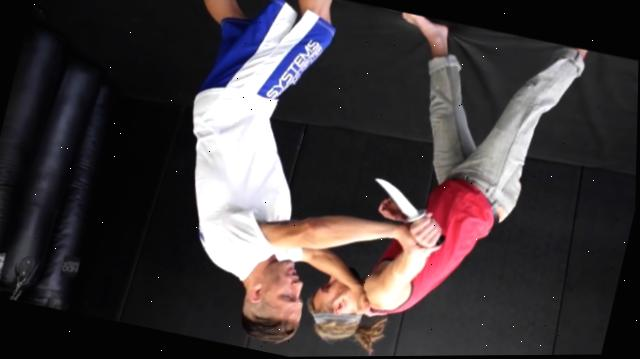long knife: (352, 168, 461, 254)
